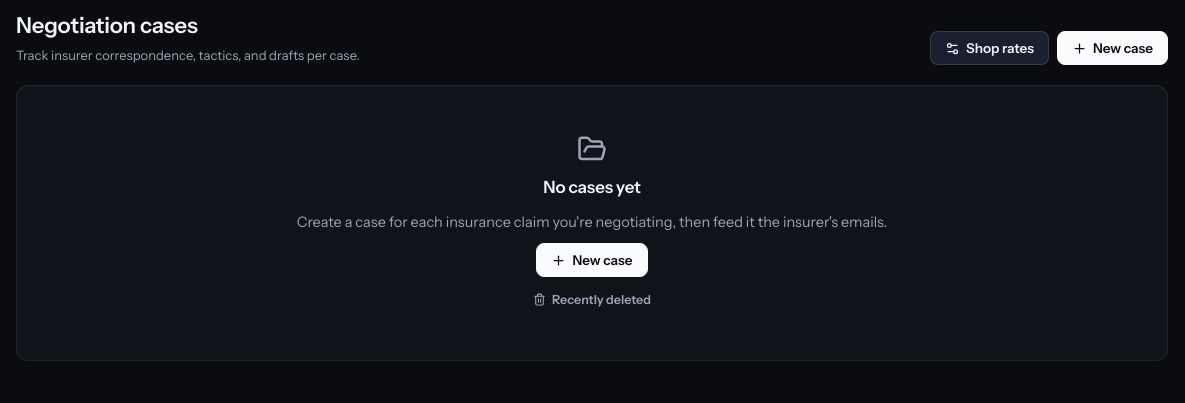
Scenario: CasesView controls follow the role and the plan › every case deleted: the empty list still opens Recently deleted, and Restore works
Check: the element with class "empty" shows "No cases yet", box [543, 177, 641, 197]
What coordinates should you click on to do the following:
click the button "Recently deleted"
I would click on:
 (592, 300)
Its box is [522, 287, 662, 312].
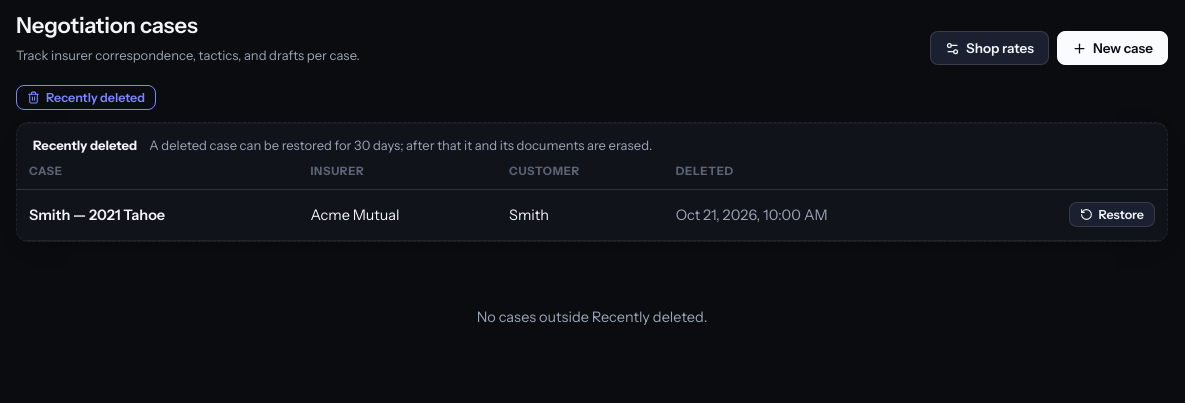
Check: the text "No cases outside Recently deleted." is shown, box [477, 308, 707, 326]
What coordinates should you click on to do the following:
click the button "Restore"
I would click on:
 (1112, 215)
Its box is [1068, 202, 1155, 227].
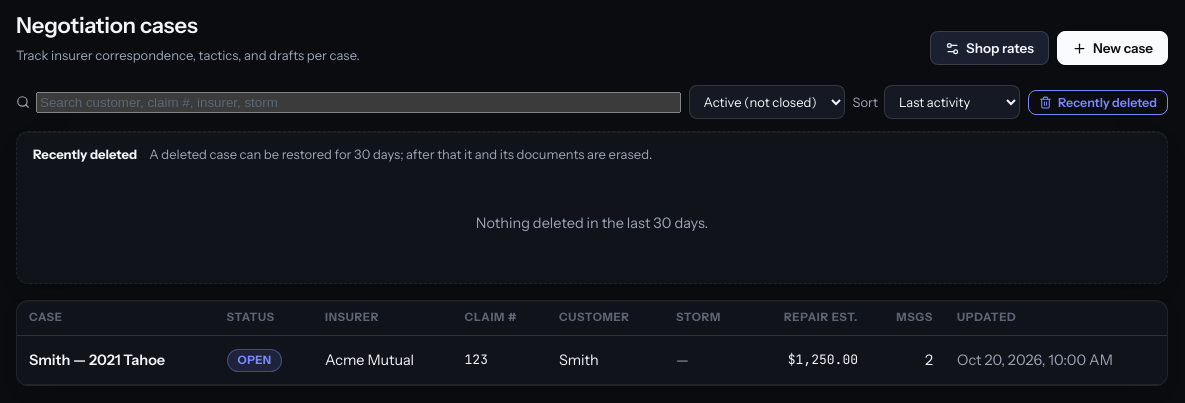
Check: the search field with placeholder "Search customer, claim #, insurer, storm" is shown, box [36, 92, 681, 113]
